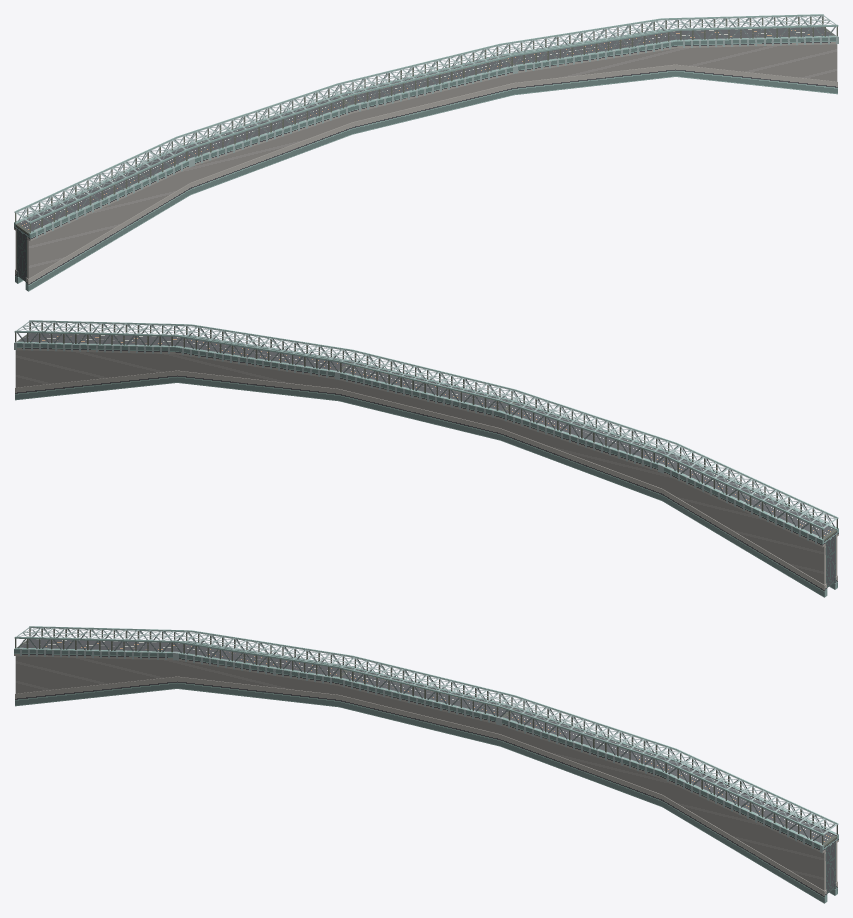
File: 02cd_Toll_Bridge.glb
3 renders of one model, top to bottom at view 1: azimuth 30°, elevation 25°; view 2: azimuth 150°, elevation 25°; view 3: azimuth 330°, elevation 25°, orthographic.
Visible parts, largest first — view 1: part_0; view 2: part_0; view 3: part_0.
Part boxes in pixels (bbox=[...]): part_0: bbox=[14, 14, 838, 291]; part_0: bbox=[14, 320, 838, 597]; part_0: bbox=[14, 626, 838, 903].
Size of the model in its own units: 1028 by 145 by 36.
1 material, 1 textured.
